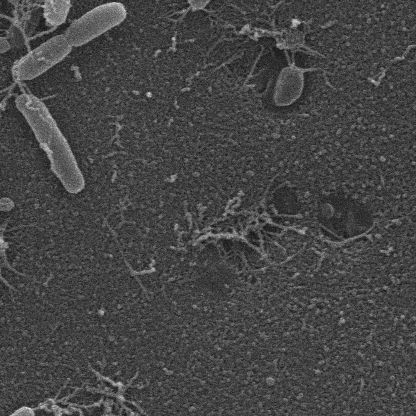cell2cell: (0, 0, 37, 54), (17, 68, 36, 107)
cell2surface: (35, 395, 127, 416), (0, 77, 20, 116), (0, 382, 5, 390)
regular: (23, 102, 86, 194), (12, 35, 67, 83), (67, 7, 125, 47), (187, 0, 253, 11), (0, 405, 37, 416)
